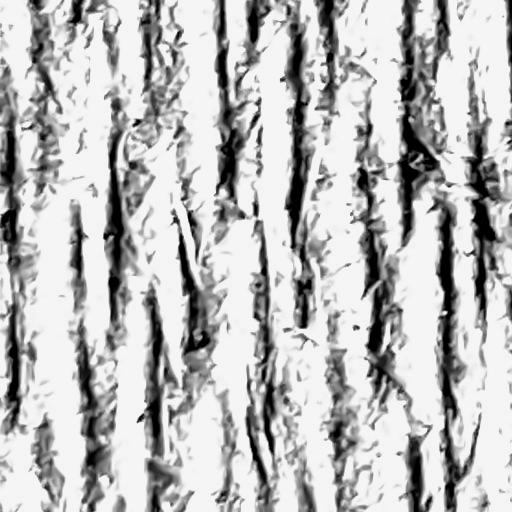egg: (474, 199, 495, 239), (250, 10, 258, 47)
